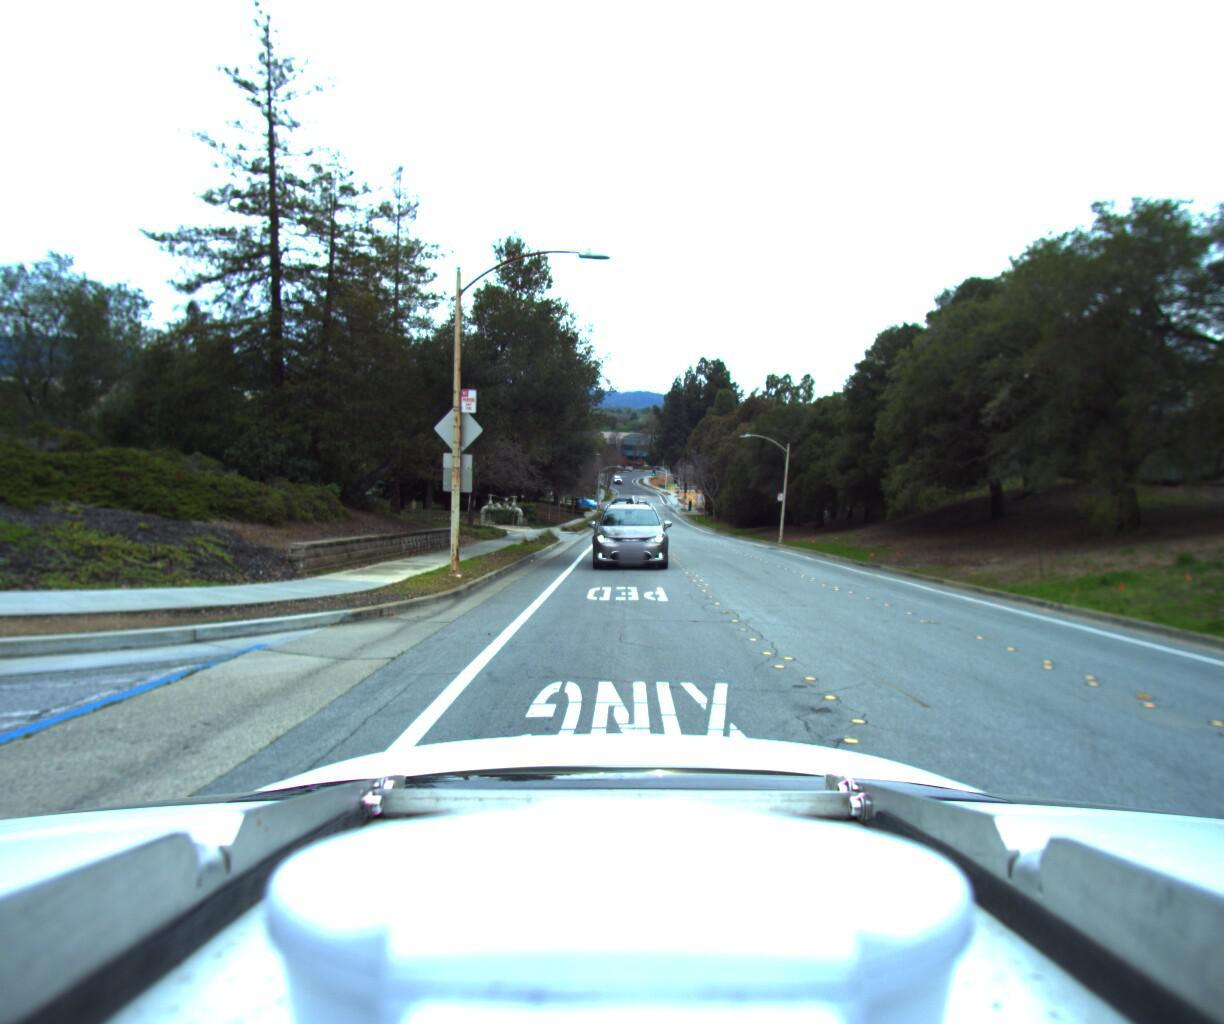car: (585, 487, 669, 577)
